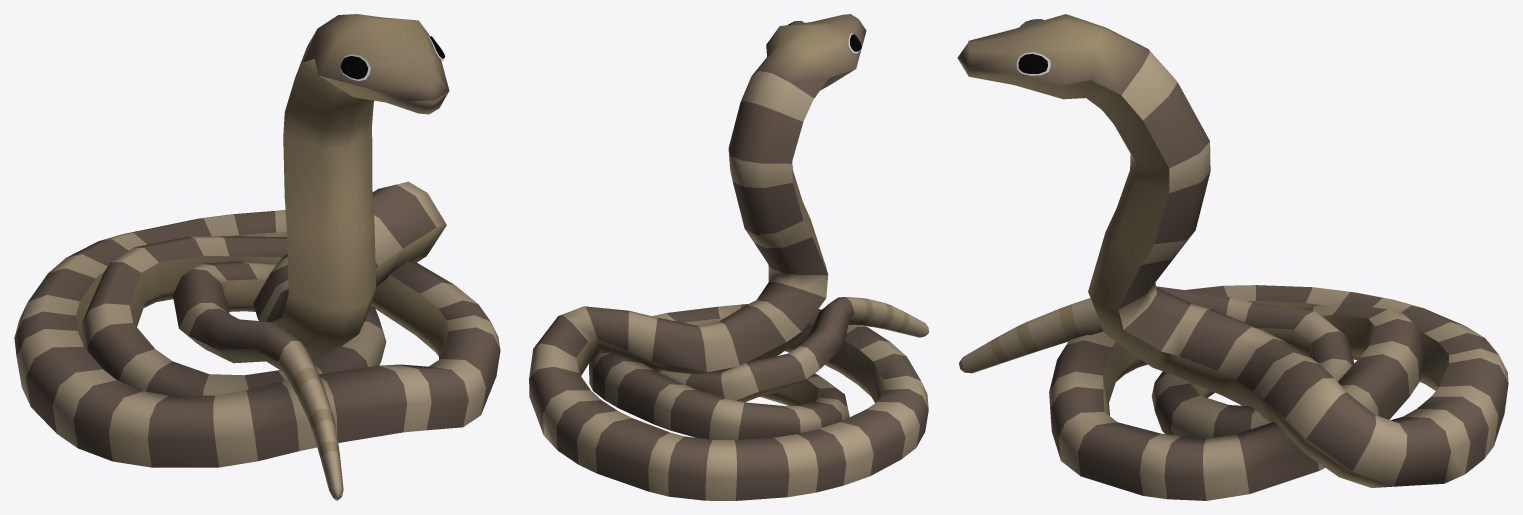
The model's file is animals-reptiles-rattlesnake_v1.glb.
3 views of the same model, side by side, from view 1: azimuth 30°, elevation 25°; view 2: azimuth 150°, elevation 25°; view 3: azimuth 270°, elevation 25° (orthographic). The views are drawn at different scales.
Visible parts, largest first — view 1: Rattlesnake.001; view 2: Rattlesnake.001; view 3: Rattlesnake.001.
Boxes of the visible parts, bbox=[...] form: Rattlesnake.001: bbox=[14, 14, 500, 500]; Rattlesnake.001: bbox=[529, 14, 928, 500]; Rattlesnake.001: bbox=[957, 14, 1508, 500].
Bounding box in the file's own units: 0.5903 × 0.5779 × 0.6952.
